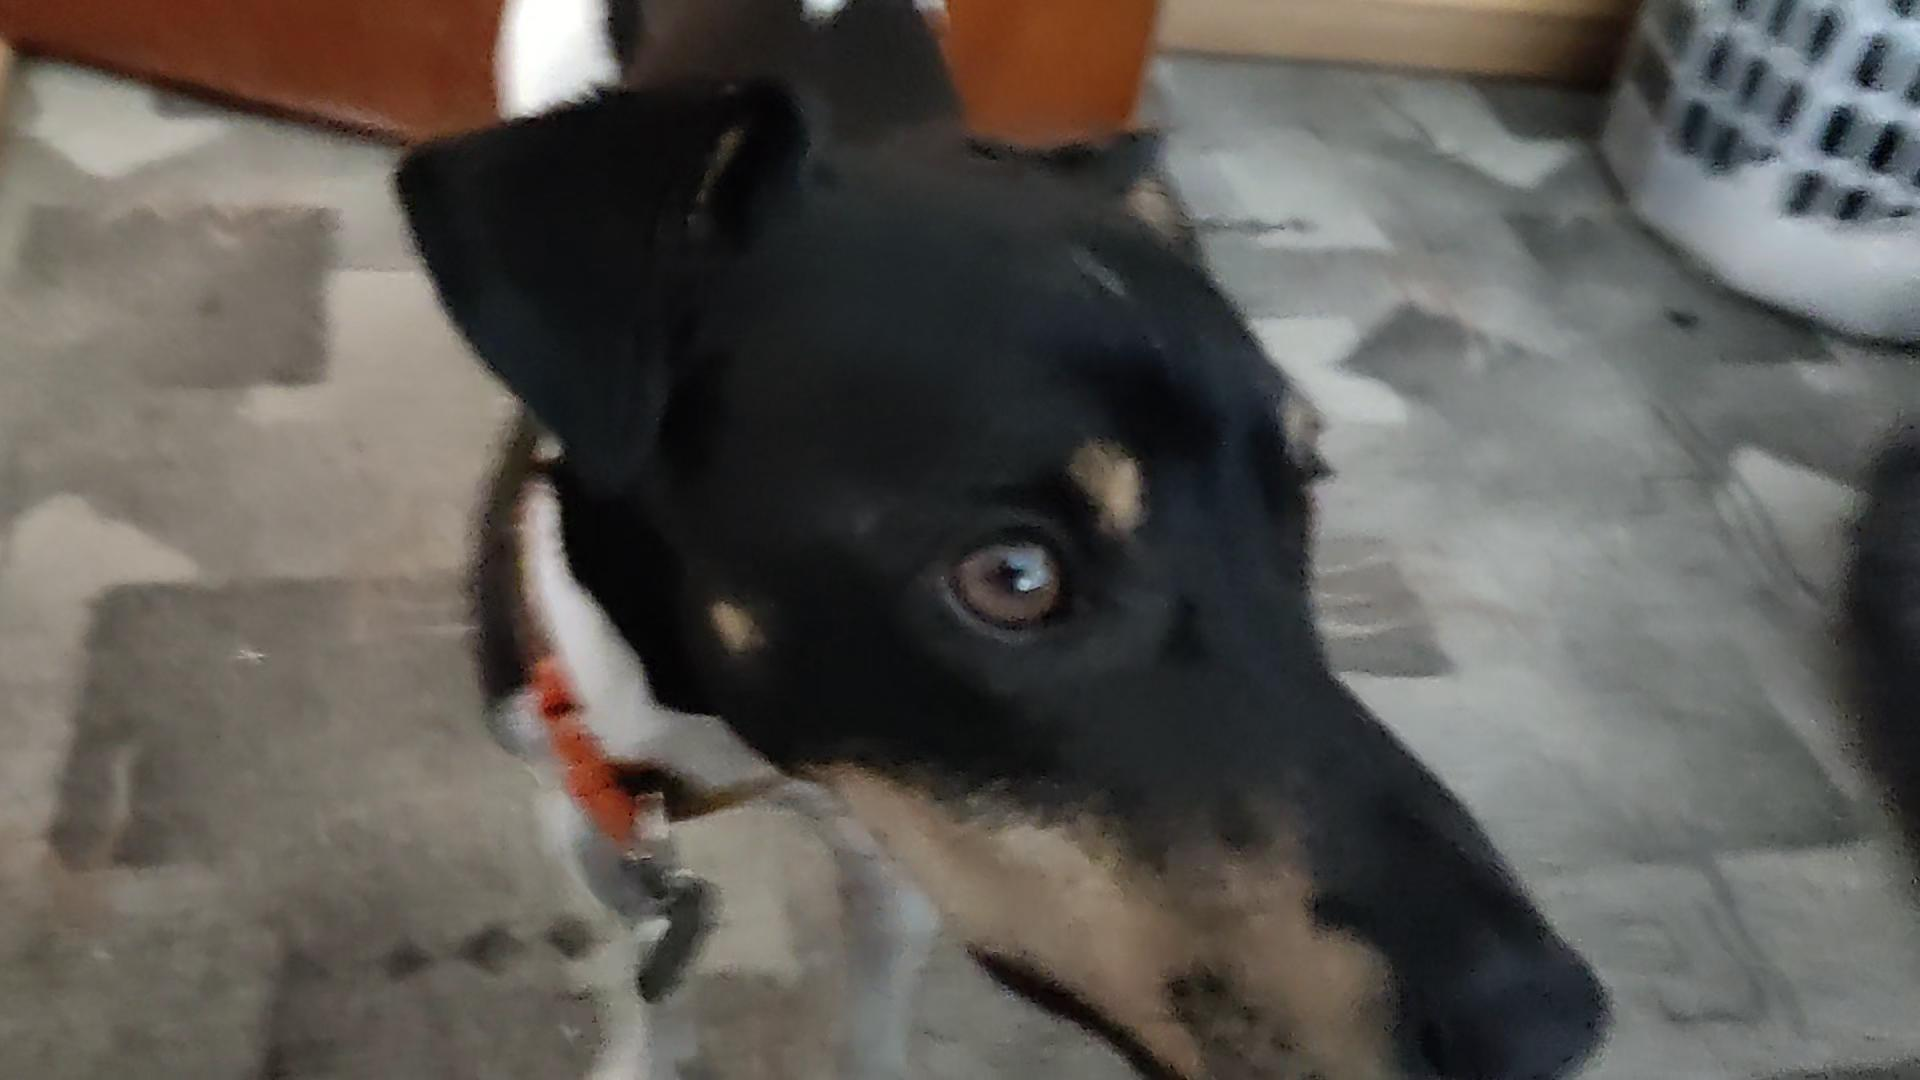Dog: (367, 0, 1638, 1079)
